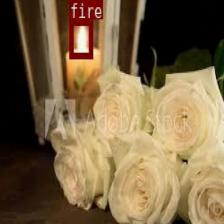fire: (69, 19, 92, 57)
